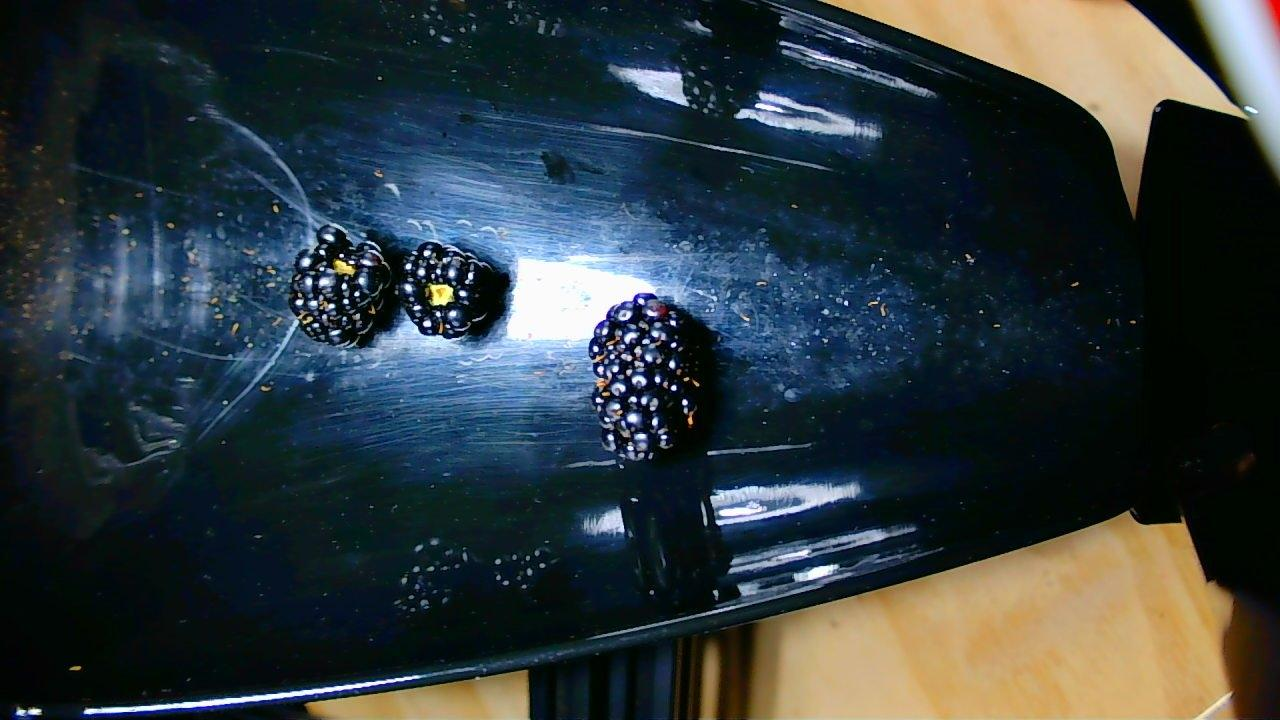berry: (588, 292, 714, 464), (290, 222, 400, 344), (399, 241, 506, 338)
